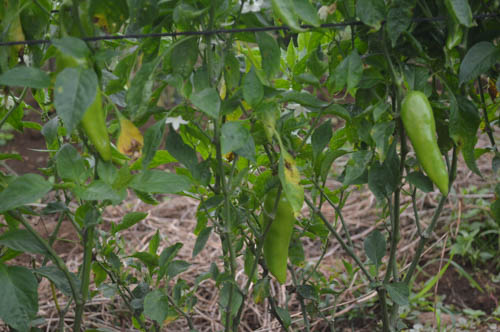ChiliPepper: (403, 90, 451, 195), (261, 177, 290, 285), (82, 95, 117, 162)
